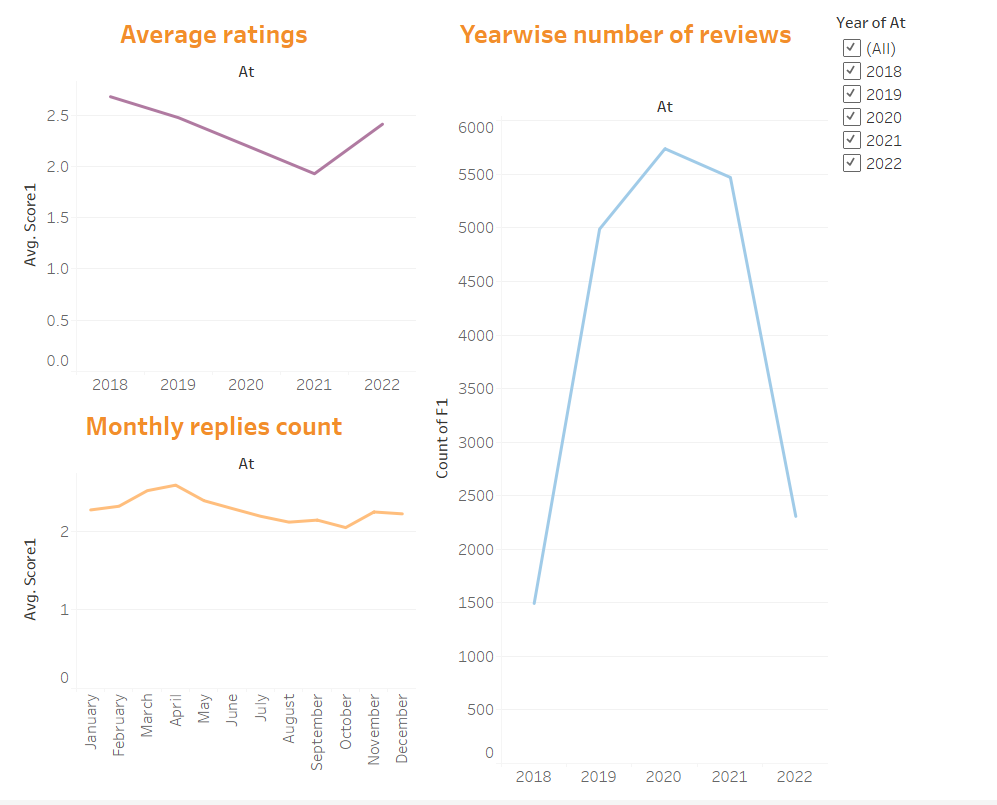

The dashboard page shown, as its layout file describes it:
{"tool":"tableau","page":{"name":"Dashboard 2 ","canvas":[1000,800],"ordinal":1},"visuals":[{"type":"worksheet","title":"Sheet 5","mark":"Automatic","rows":["score"],"cols":["at"],"box":[8,8,412,392]},{"type":"worksheet","title":"Sheet 2 (2)","mark":"Line","rows":["F1"],"cols":["at"],"box":[420,8,412,784]},{"type":"filter","title":"Sheet 2 (2)","param":"[federated.1ddzucy0dadkpw12fp1pa0cfsdw6 (copy)].[yr:at:ok]","box":[832,8,160,174]},{"type":"worksheet","title":"Sheet 7 (2)","mark":"Automatic","rows":["score"],"cols":["at"],"box":[8,400,412,392]}]}

Visuals, with their boxes in screenshot pixels (x1, y1, x2, y2), scaled from the page's 1000x800 canvas onto the 997x805 screenshot:
"Sheet 5" worksheet: x1=8, y1=8, x2=419, y2=403
"Sheet 2 (2)" worksheet (Line marks): x1=419, y1=8, x2=830, y2=797
"Sheet 2 (2)" filter: x1=830, y1=8, x2=989, y2=183
"Sheet 7 (2)" worksheet: x1=8, y1=403, x2=419, y2=797
